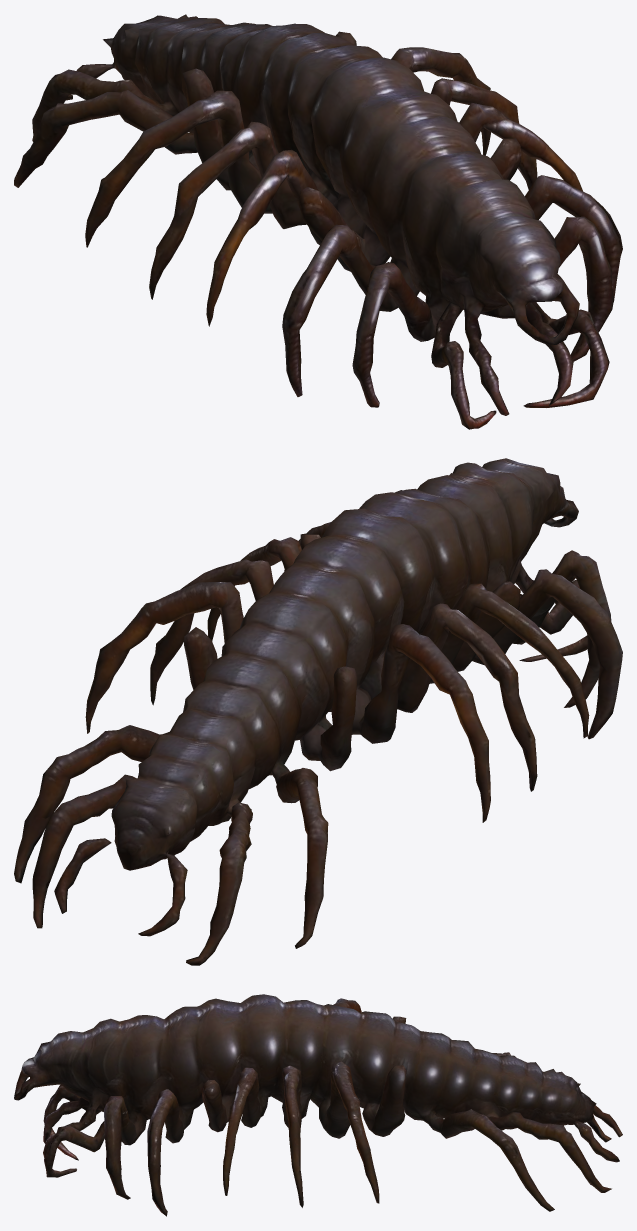
File: giant-centipede.glb
3 views of the same model, one above another, from view 1: azimuth 30°, elevation 25°; view 2: azimuth 150°, elevation 25°; view 3: azimuth 270°, elevation 25° (orthographic). The views are drawn at different scales.
Bounding box in the file's own units: 1.04 × 0.6185 × 2.02.
Materials: 1 (1 with a texture image).
